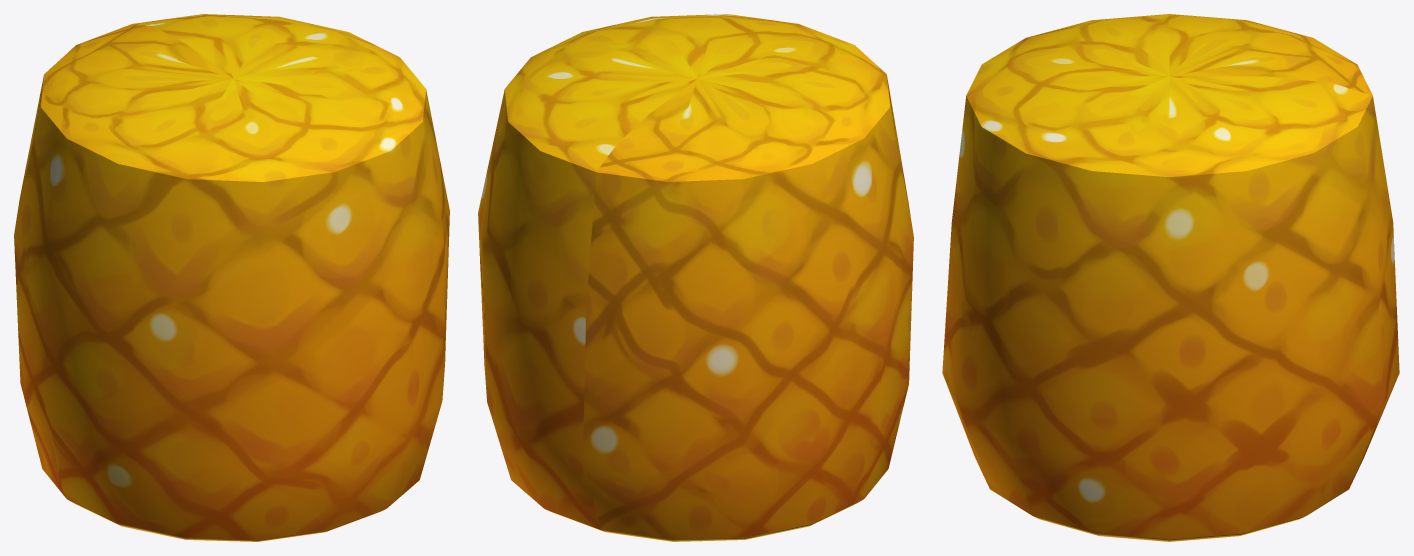
The model's file is BG_PineAppleChair2.fbx.
3 views of the same model, side by side, from view 1: azimuth 30°, elevation 25°; view 2: azimuth 150°, elevation 25°; view 3: azimuth 270°, elevation 25° (orthographic).
Parts seen in each view (by area): view 1: PineAppleChair2; view 2: PineAppleChair2; view 3: PineAppleChair2.
Boxes of the visible parts, x1,y1,x2,y2 form: PineAppleChair2: [14, 14, 449, 541]; PineAppleChair2: [478, 14, 913, 541]; PineAppleChair2: [942, 14, 1399, 541].
Size of the model in its own units: 36.43 by 35.31 by 37.73.
